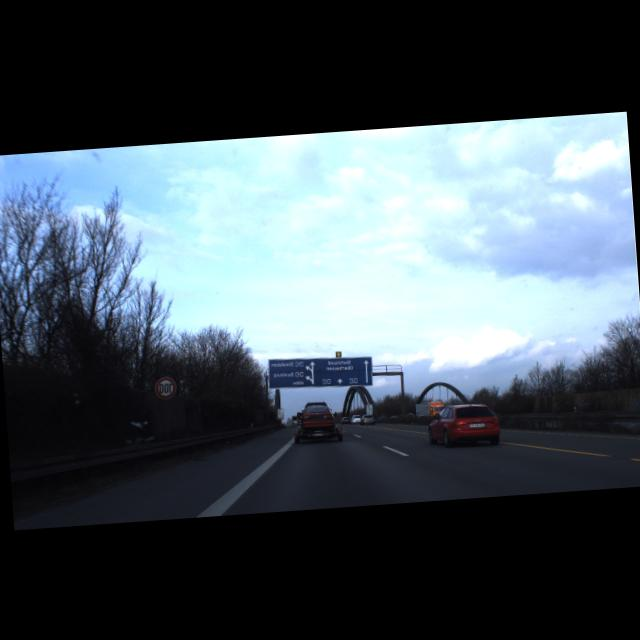prohibitory: (154, 376, 177, 398)
